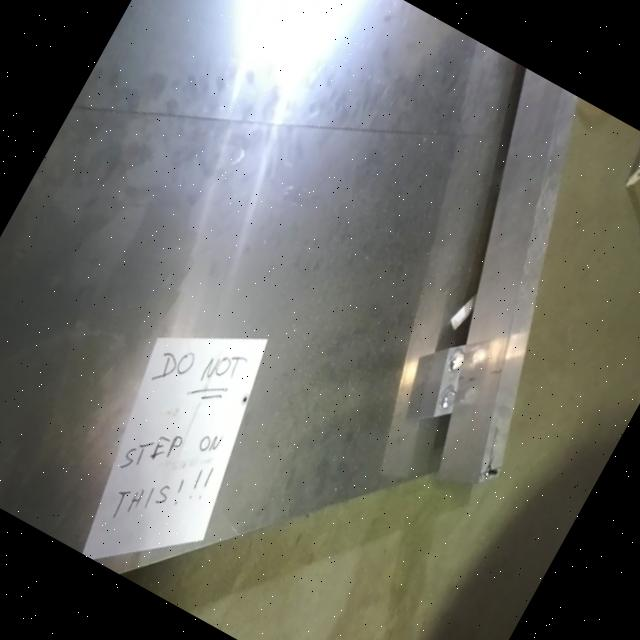blocks: (388, 306, 518, 459)
